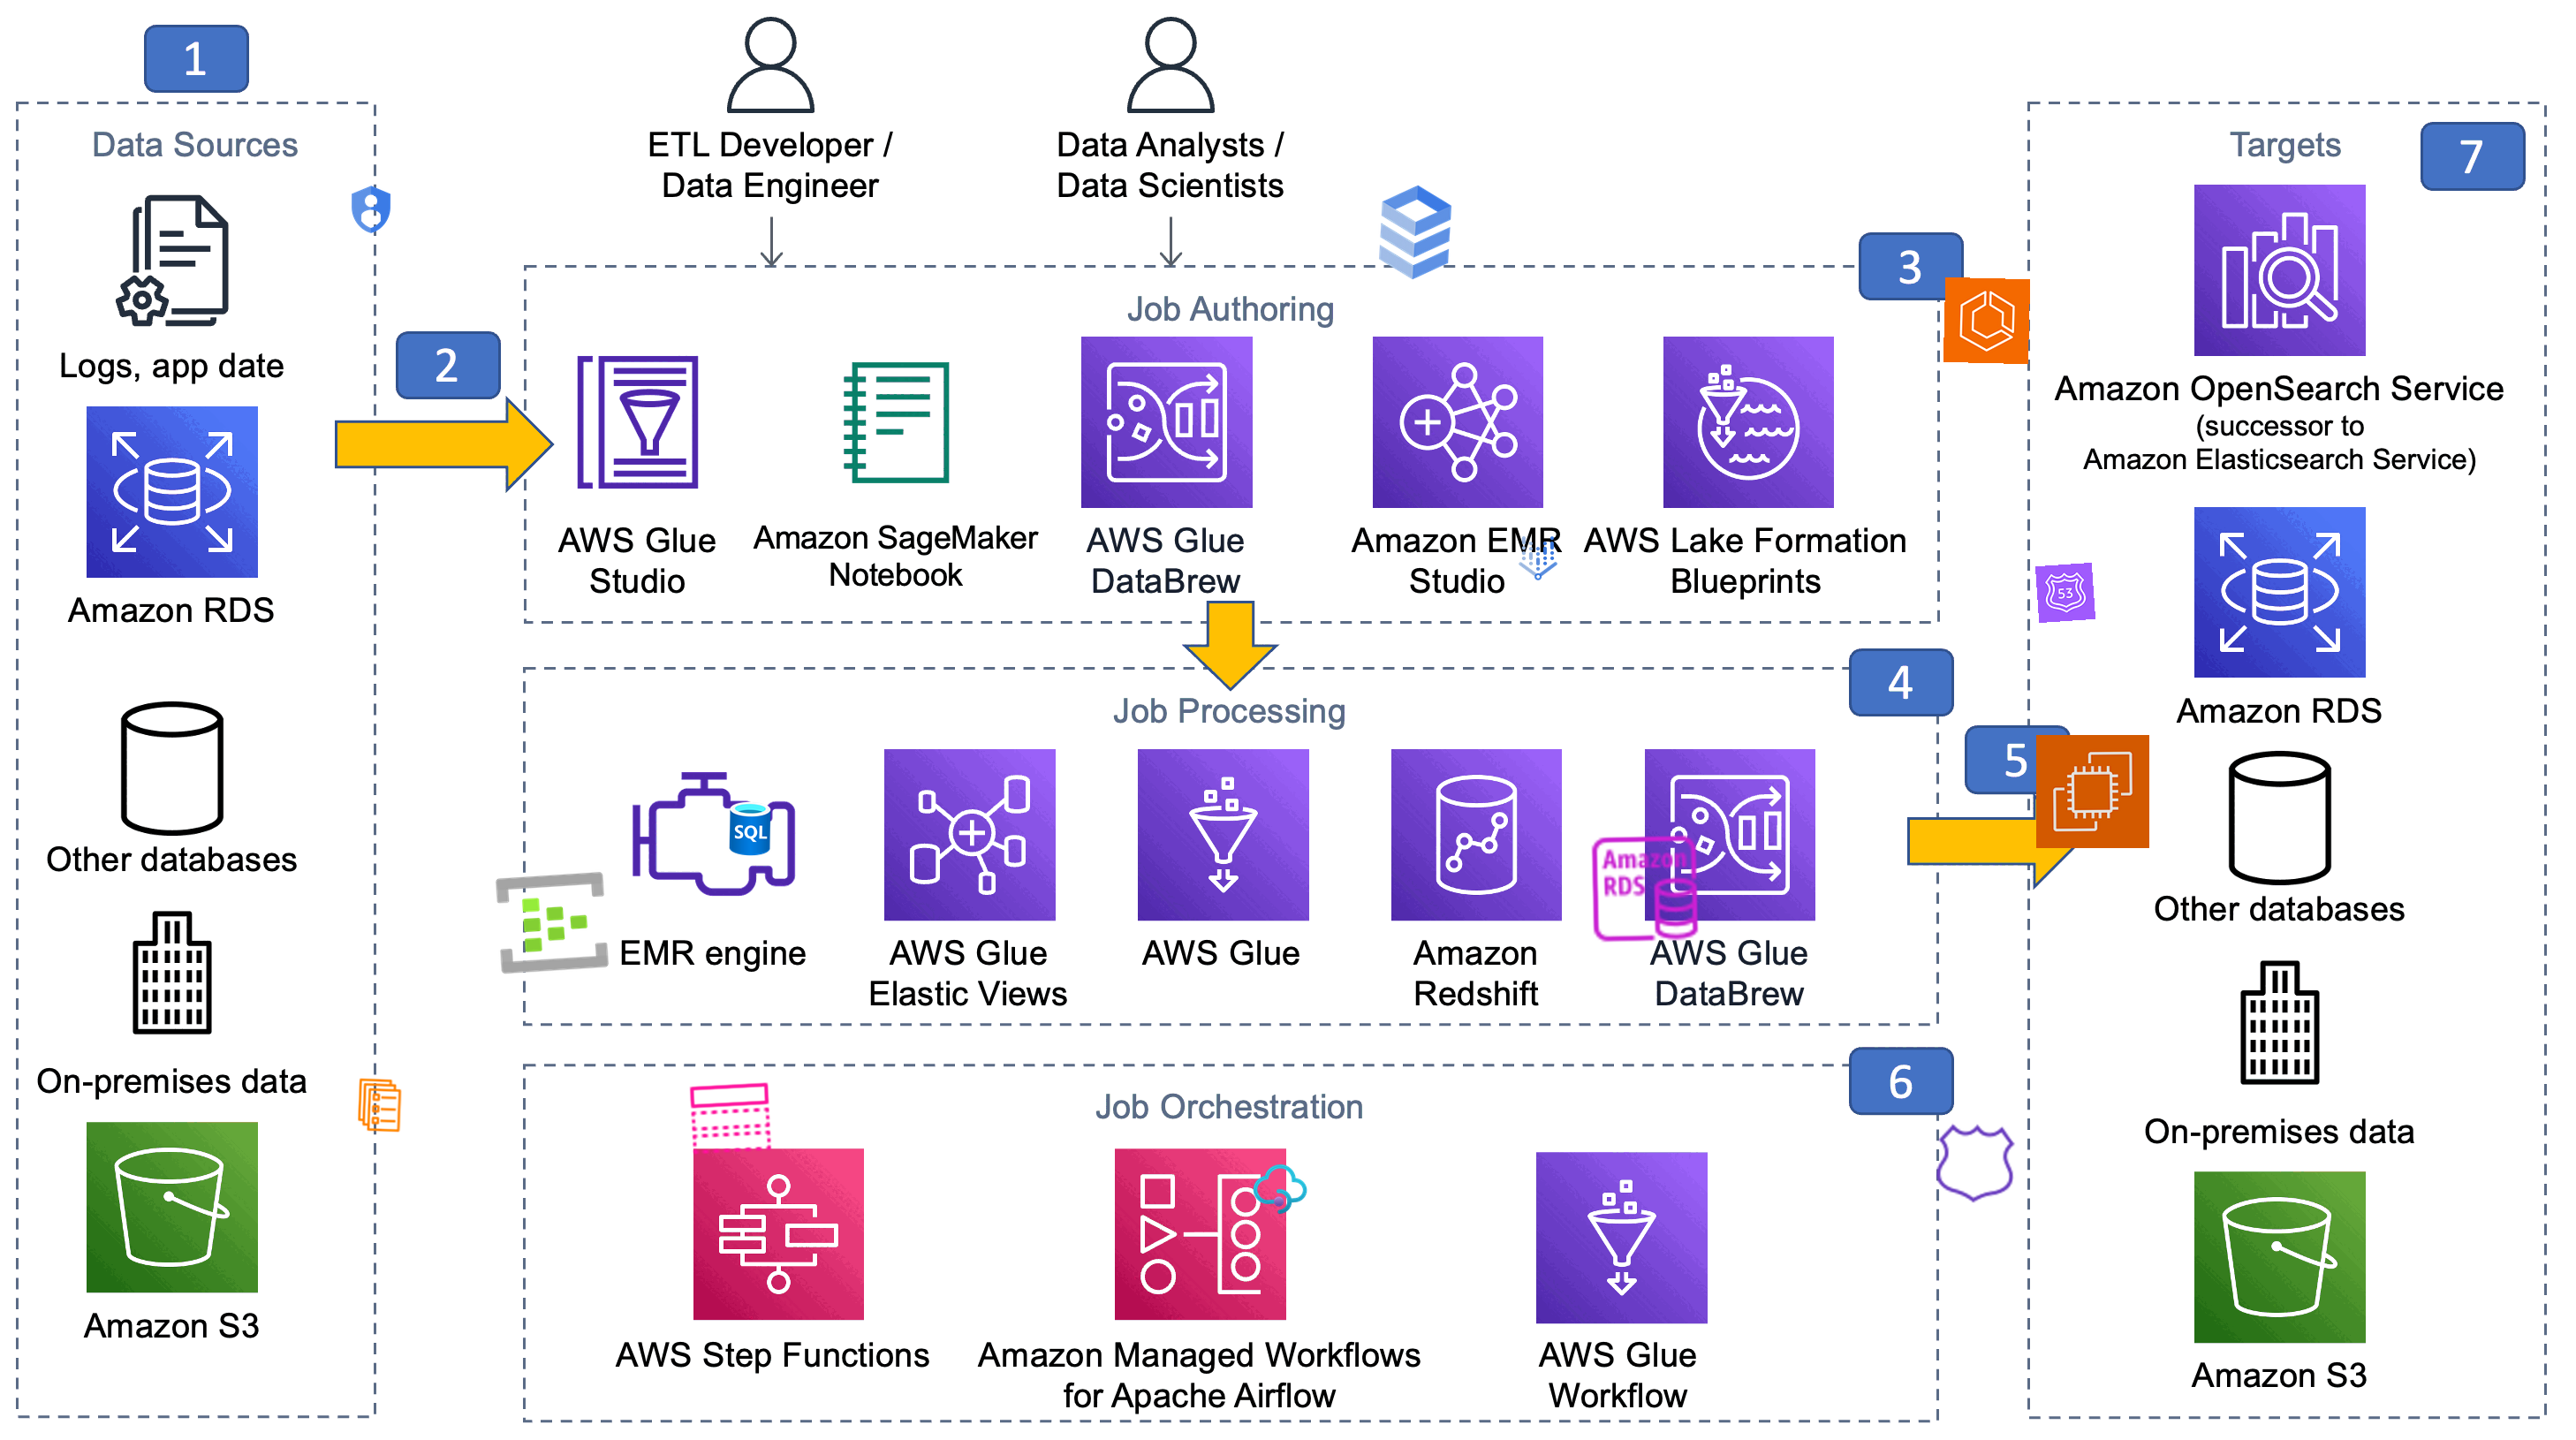aws_amazon_ec2: (2035, 734, 2150, 849)
aws_amazon_elastic_container_service: (1943, 276, 2031, 364)
aws_amazon_route_53: (2035, 563, 2097, 624)
aws_aurora_amazon_rds_instance: (1587, 830, 1704, 946)
aws_elastic_container_service_service: (350, 1076, 410, 1136)
aws_route_53_hosted_zone: (1932, 1118, 2020, 1208)
aws_simple_notification_service_topic: (685, 1074, 775, 1164)
azure_api_management_services: (1249, 1159, 1311, 1221)
azure_event_hubs: (492, 862, 612, 982)
azure_sql_database: (720, 800, 778, 858)
gcp_cloud_sql: (1355, 172, 1476, 292)
gcp_identity_and_access_management: (341, 180, 400, 239)
gcp_vertex_ai: (1509, 529, 1568, 587)
